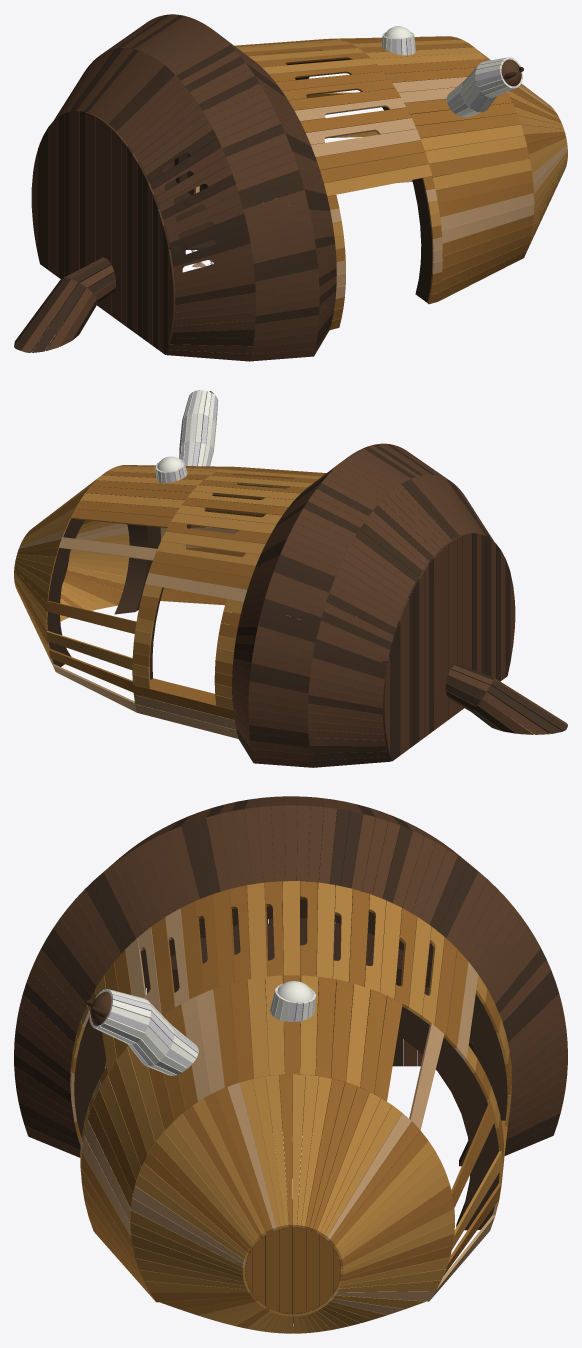
The model's file is rgss-501-acorn.glb.
3 renders of one model, top to bottom at view 1: azimuth 30°, elevation 25°; view 2: azimuth 150°, elevation 25°; view 3: azimuth 270°, elevation 25°, orthographic. The views are drawn at different scales.
Parts seen in each view (by area): view 1: Body1; view 2: Body1; view 3: Body1.
Boxes of the visible parts, x1,y1,x2,y2 form: Body1: (14,14,567,361); Body1: (14,390,567,767); Body1: (14,796,567,1333).
Size of the model in its own units: 5.72 by 2.52 by 3.81.
Materials: 3 (3 with a texture image).
